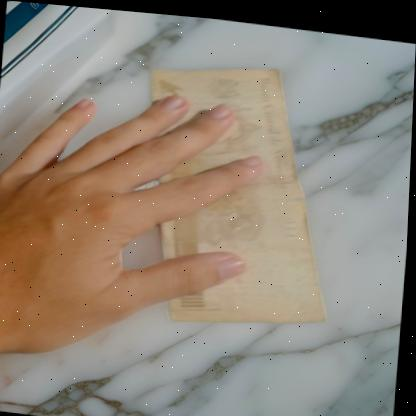five-back-vef: (133, 48, 344, 335)
